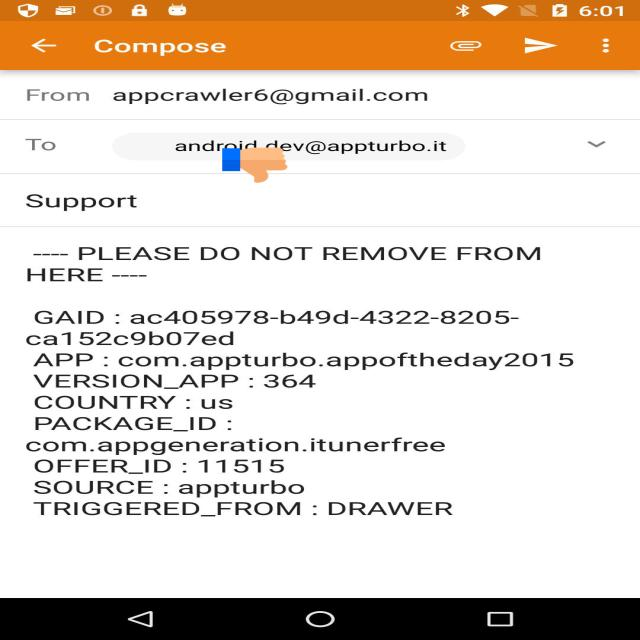obstruction: (222, 146, 288, 184)
